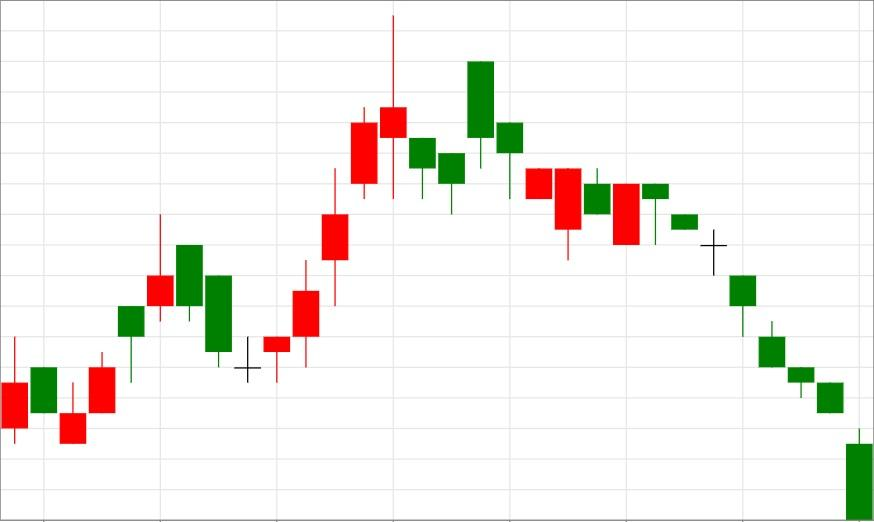three_white_soldiers_rise: (175, 168, 349, 383)
